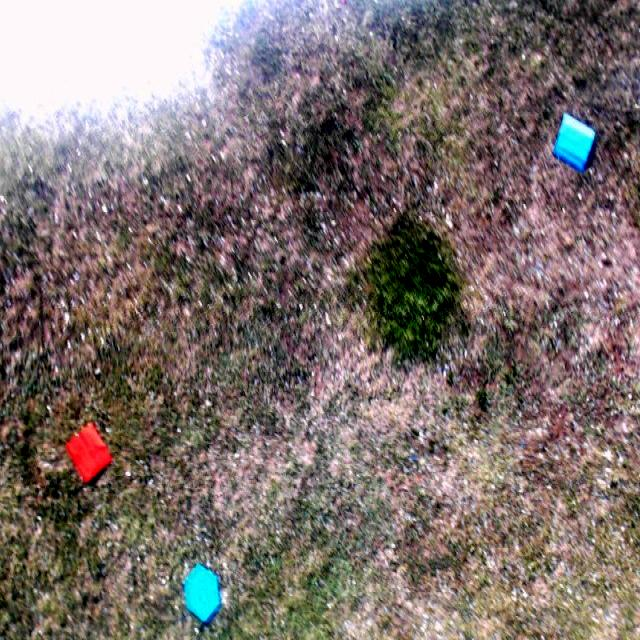blue_hexagon: (185, 563, 221, 625)
blue_square: (552, 110, 598, 174)
red_square: (64, 419, 114, 490)
